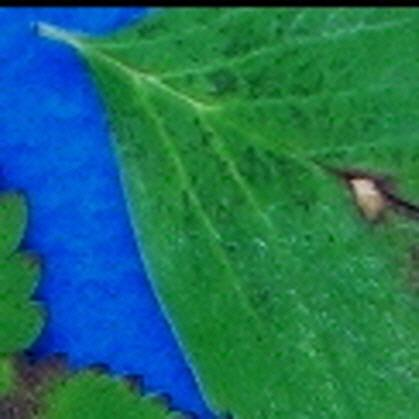Leaf Spot: (69, 7, 418, 418)
